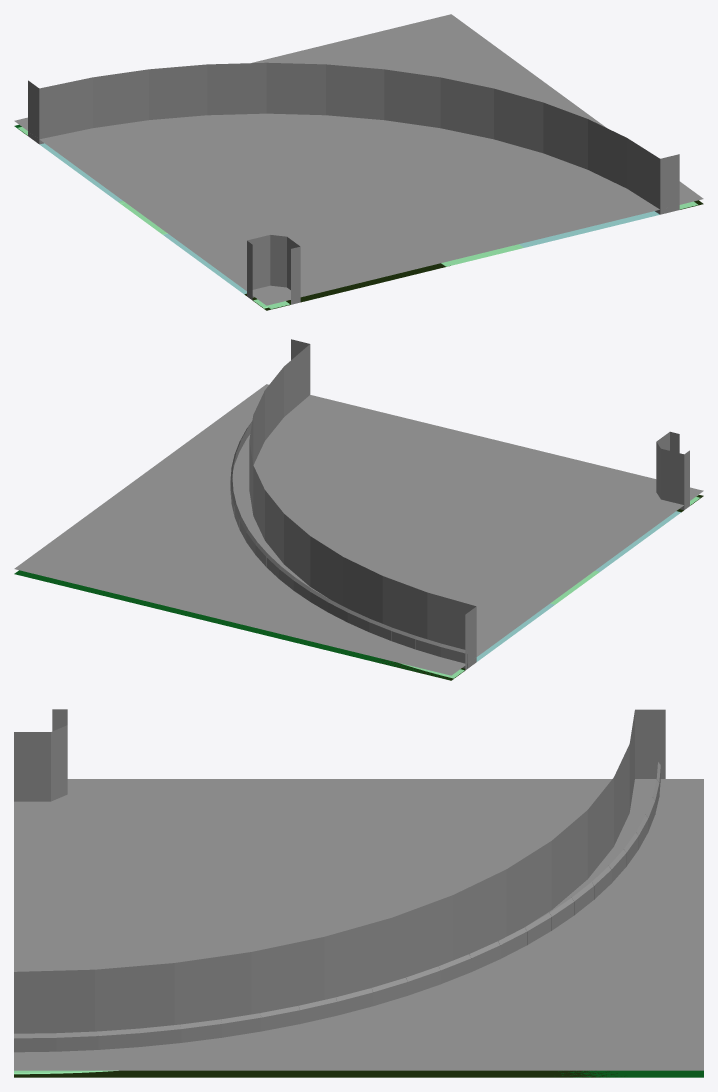
The model's file is RT TURN V01 T01 QRT SNAP.FBX.
The picture shows the model from 3 angles, top to bottom: view 1: azimuth 30°, elevation 25°; view 2: azimuth 150°, elevation 25°; view 3: azimuth 270°, elevation 25°; orthographic projection. The views are drawn at different scales.
Visible parts, largest first — view 1: RT TURN V01 T01 QRT SNAP, RT TURN V01 T01 COLL OUT, RT TURN V01 T01 COLL IN, RT TURN V01 T01 LOW, RT TURN V01 T01 HI; view 2: RT TURN V01 T01 QRT SNAP, RT TURN V01 T01 COLL OUT, RT TURN V01 T01 Fence Shared, RT TURN V01 T01 NAV Grass, RT TURN V01 T01 COLL IN, RT TURN V01 T01 HI, RT TURN V01 T01 RubW LOW; view 3: RT TURN V01 T01 QRT SNAP, RT TURN V01 T01 COLL OUT, RT TURN V01 T01 Fence Shared, RT TURN V01 T01 LOW, RT TURN V01 T01 COLL IN, RT TURN V01 T01 RubW HI, RT TURN V01 T01 NAV Grass.
Boxes of the visible parts, box(x1,y1,x2,y2) form: RT TURN V01 T01 QRT SNAP: box(14, 14, 703, 305); RT TURN V01 T01 COLL OUT: box(28, 62, 679, 214); RT TURN V01 T01 COLL IN: box(247, 235, 300, 304); RT TURN V01 T01 LOW: box(265, 200, 703, 310); RT TURN V01 T01 HI: box(20, 126, 309, 310); RT TURN V01 T01 QRT SNAP: box(14, 384, 703, 675); RT TURN V01 T01 COLL OUT: box(249, 339, 476, 670); RT TURN V01 T01 Fence Shared: box(230, 421, 465, 668); RT TURN V01 T01 NAV Grass: box(14, 570, 463, 679); RT TURN V01 T01 COLL IN: box(656, 431, 689, 510); RT TURN V01 T01 HI: box(370, 495, 703, 680); RT TURN V01 T01 RubW LOW: box(233, 438, 476, 667); RT TURN V01 T01 QRT SNAP: box(14, 779, 703, 1070); RT TURN V01 T01 COLL OUT: box(14, 709, 665, 1033); RT TURN V01 T01 Fence Shared: box(14, 762, 660, 1052); RT TURN V01 T01 LOW: box(14, 1070, 624, 1077); RT TURN V01 T01 COLL IN: box(14, 709, 67, 801); RT TURN V01 T01 RubW HI: box(543, 779, 656, 916); RT TURN V01 T01 NAV Grass: box(558, 1070, 703, 1077).
Bounding box in the file's own units: 90 × 11 × 90.
